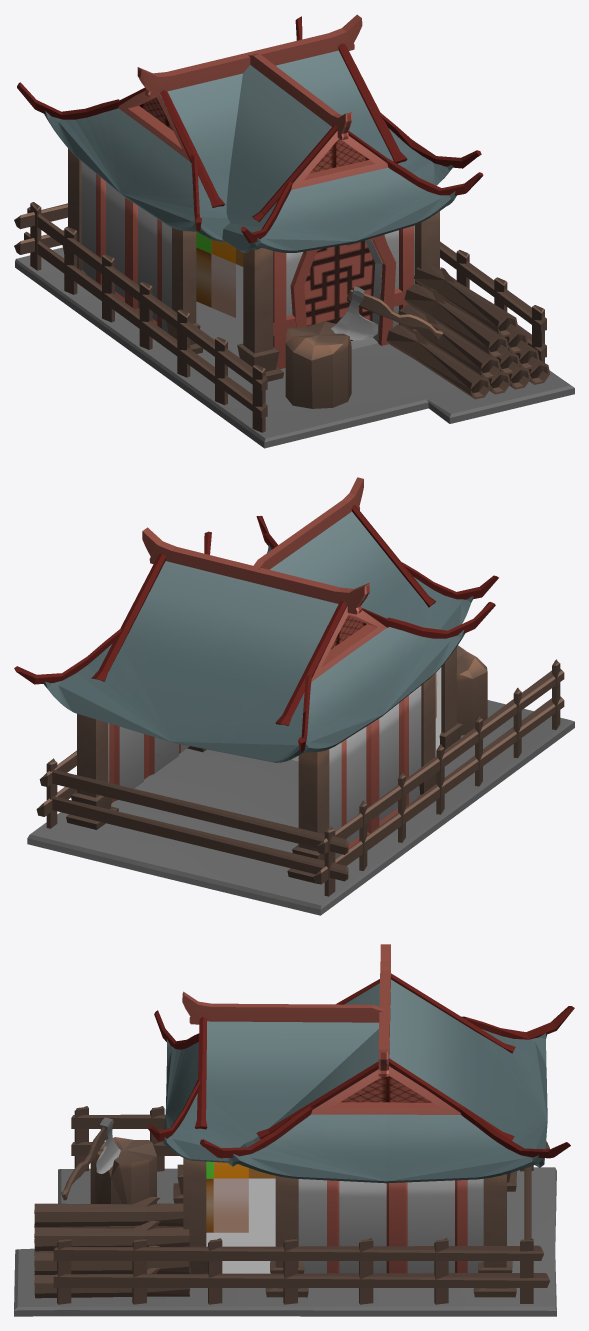
The model's file is Sawmill_3lvl.fbx.
The picture shows the model from 3 angles, top to bottom: view 1: azimuth 30°, elevation 25°; view 2: azimuth 150°, elevation 25°; view 3: azimuth 270°, elevation 25°; orthographic projection. The views are drawn at different scales.
Visible parts, largest first — view 1: Sawmill_3lvl; view 2: Sawmill_3lvl; view 3: Sawmill_3lvl.
Part boxes in pixels (left/top/right/bottom): Sawmill_3lvl: left=14, top=14, right=574, bottom=448; Sawmill_3lvl: left=14, top=477, right=574, bottom=915; Sawmill_3lvl: left=14, top=944, right=574, bottom=1316.
Size of the model in its own units: 4.23 by 3.38 by 6.68.
Materials: 1 (1 with a texture image).
